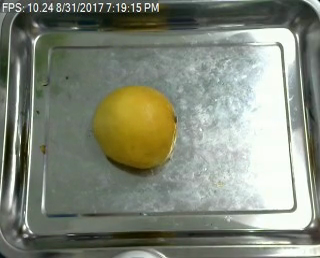Mango: (94, 86, 177, 169)
